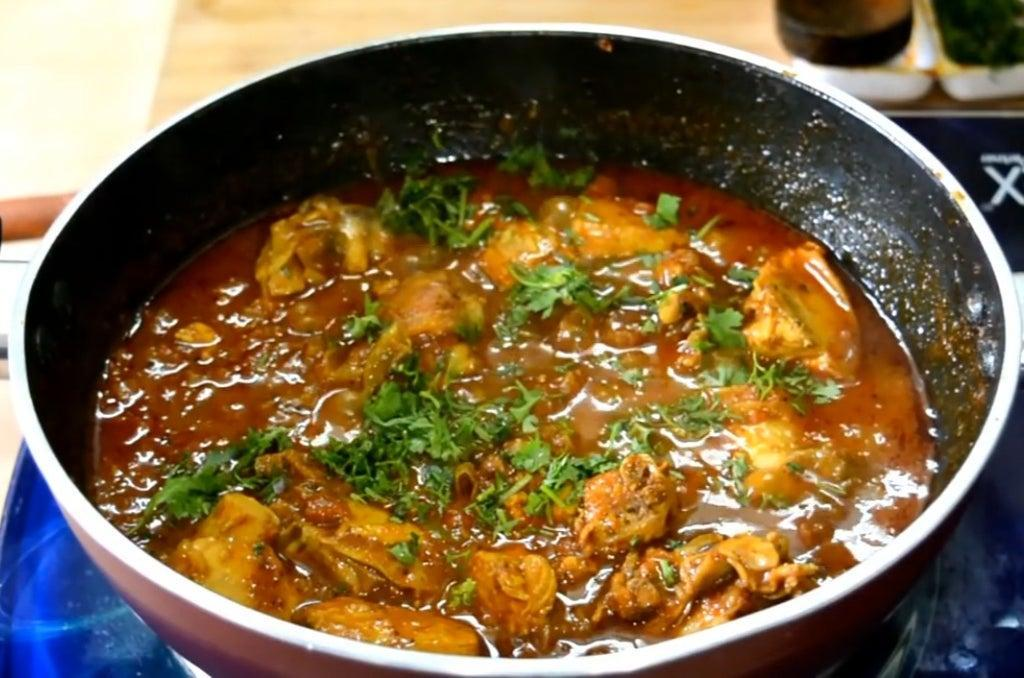chicken: (96, 177, 924, 628)
